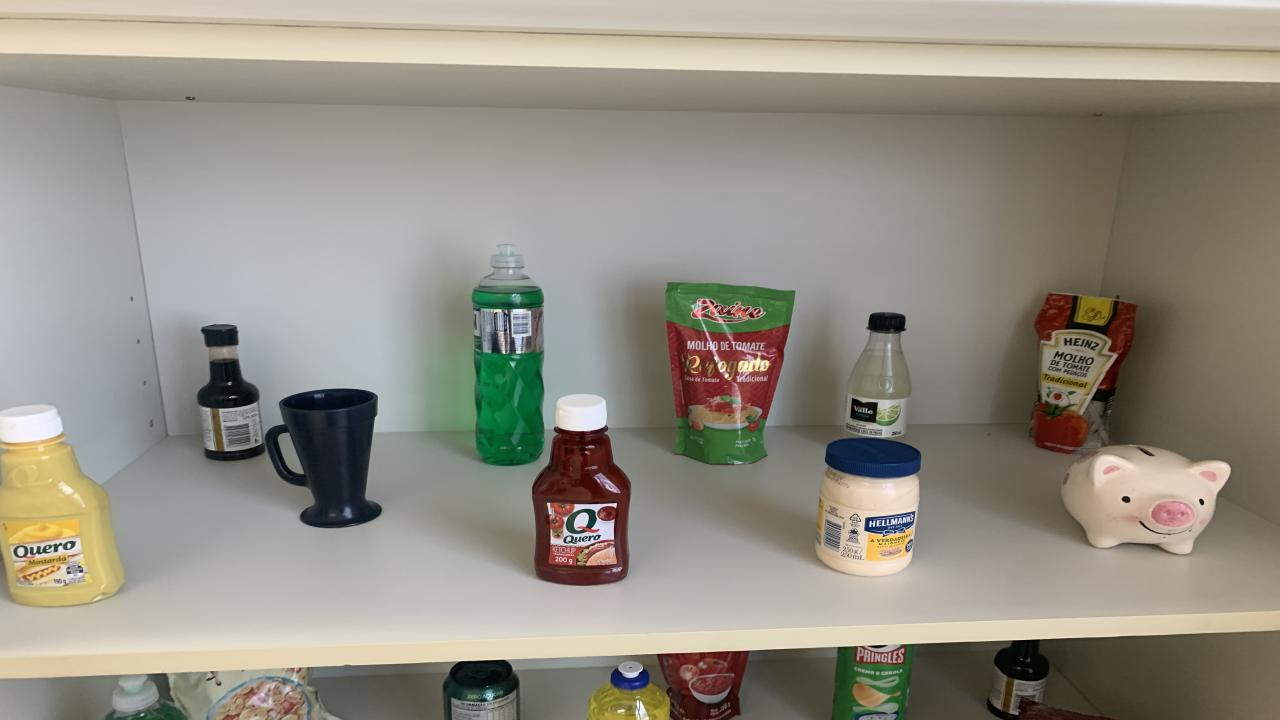Detergent-Cleanup_Items: (472, 244, 545, 465), (588, 662, 670, 720), (105, 675, 188, 720)
English_Sauce-Pantry_Items: (198, 324, 262, 461), (988, 639, 1050, 720)
Flakes-Snacks: (170, 668, 335, 720)
Guarana_Can-Drinks: (442, 660, 520, 720)
Ketchup-Pantry_Items: (532, 394, 630, 585)
Mayonnaise-Pantry_Items: (815, 437, 920, 576)
Mustard-Pantry_Items: (0, 405, 125, 606)
Pig_Safe-Miscellaneous: (1062, 444, 1230, 555)
Pringles-Snacks: (832, 645, 912, 720)
Soda-Drinks: (845, 313, 912, 437)
Tomato_Sauce-Pantry_Items: (665, 283, 795, 463), (1030, 292, 1138, 454), (658, 651, 750, 720)
